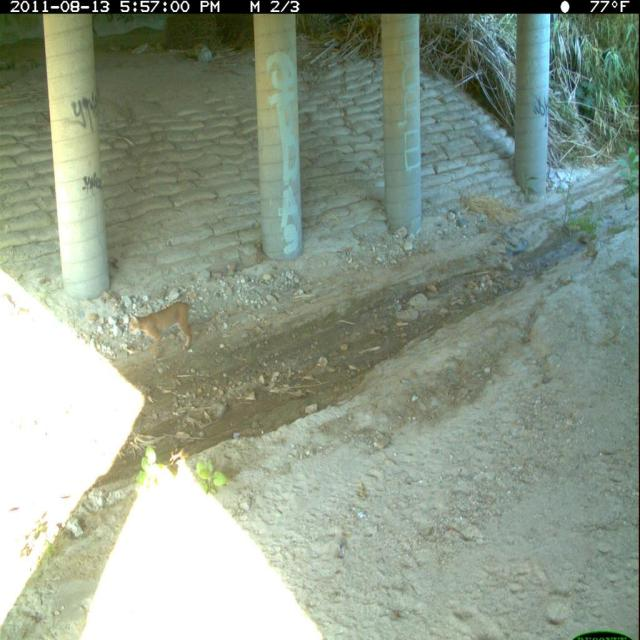bobcat: (126, 297, 196, 360)
